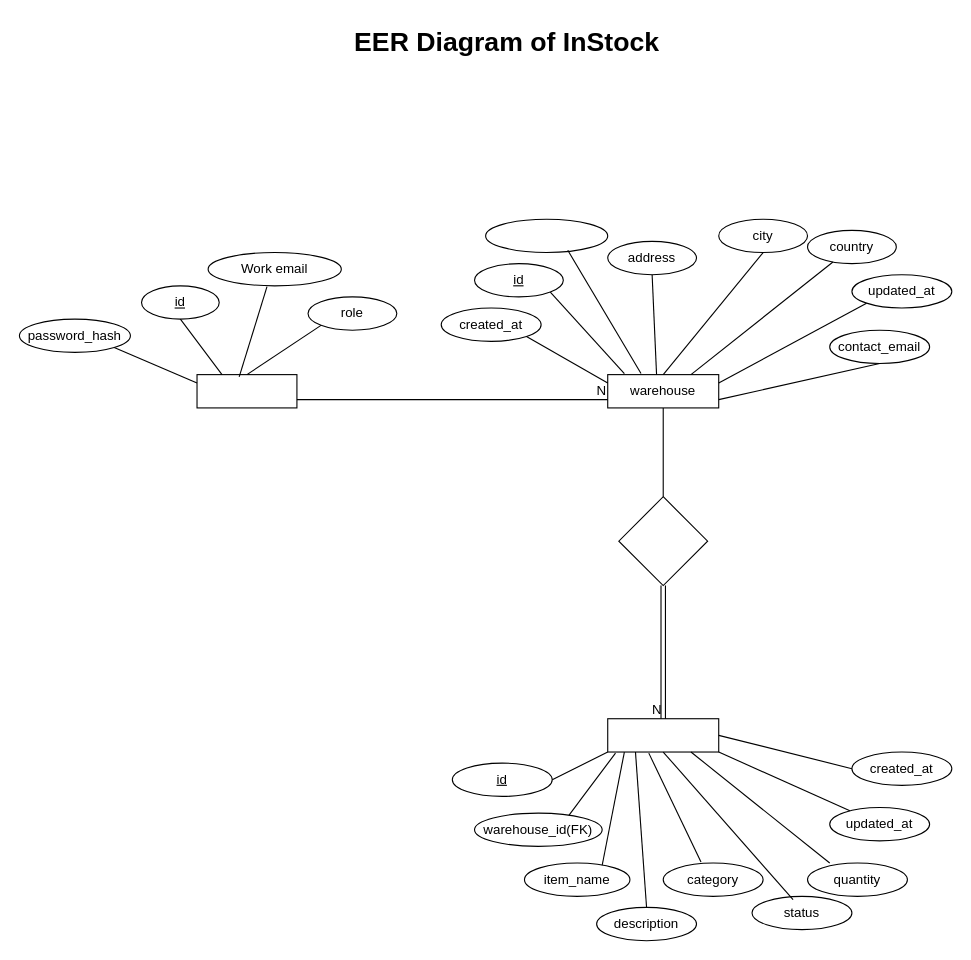
Some shapes in this 971 by 960 pixel diagram are drawn without their labels. The shapes that lost their labels are listed below. From the top down, each one's centre as x and y in pixels, then its label:
At point 546,235: "warehouse_name".
At point 246,391: "User".
At point 663,541: "HAS".
At point 663,735: "inventory".
